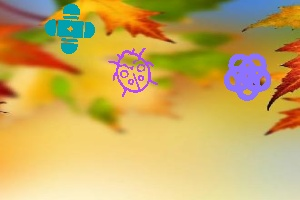七星瓢虫: (110, 47, 155, 97)
五瓣花: (224, 53, 274, 102)
空间站模型: (45, 4, 96, 53)
